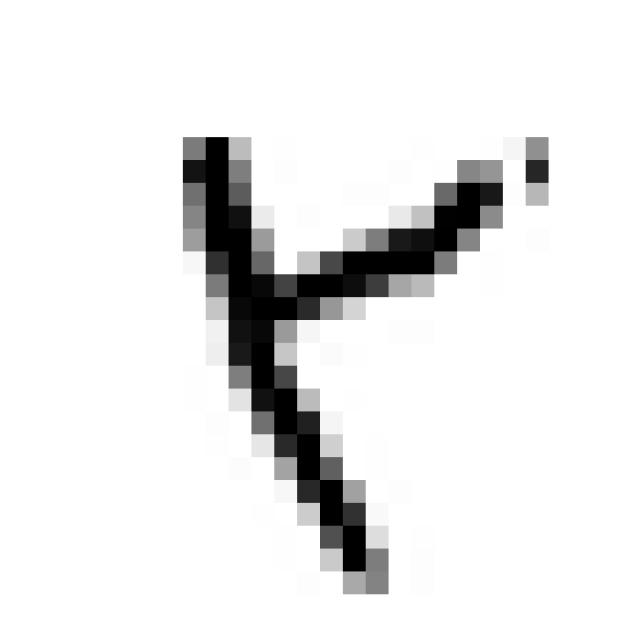3 -three-: (160, 89, 570, 603)
